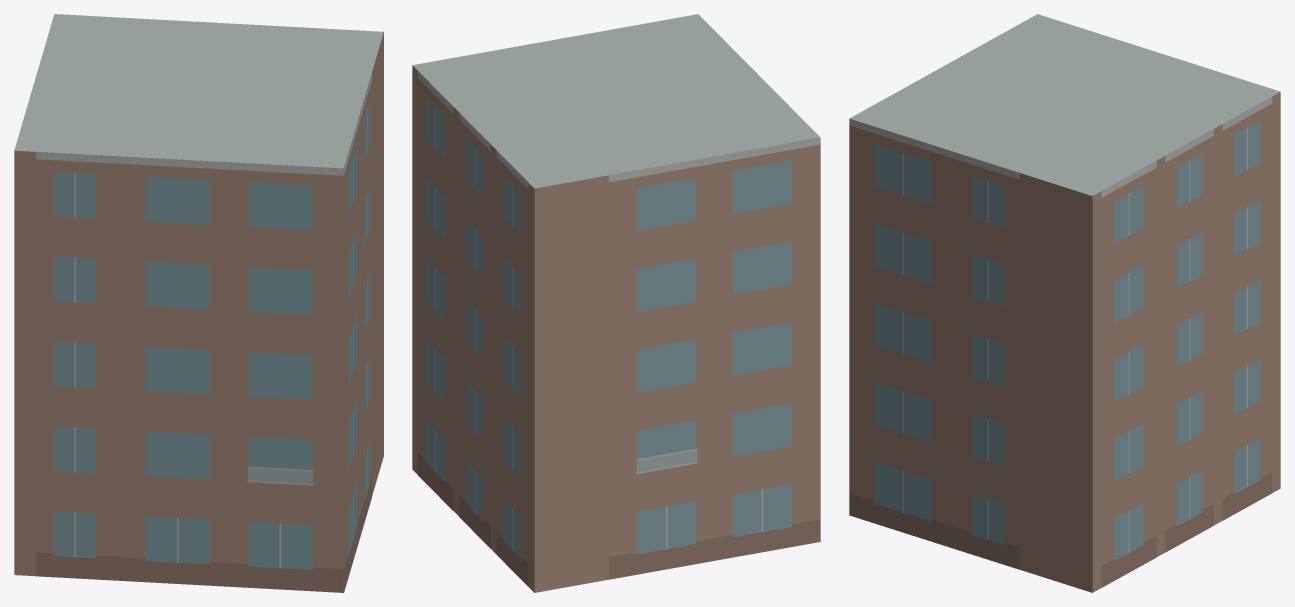
The model's file is survey-upis-32669905.glb.
3 views of the same model, side by side, from view 1: azimuth 30°, elevation 25°; view 2: azimuth 150°, elevation 25°; view 3: azimuth 270°, elevation 25° (orthographic). The views are drawn at different scales.
Parts seen in each view (by area): view 1: survey-upis-32669905.tmp; view 2: survey-upis-32669905.tmp; view 3: survey-upis-32669905.tmp.
Part boxes in pixels (bbox=[...]): survey-upis-32669905.tmp: bbox=[14, 14, 383, 592]; survey-upis-32669905.tmp: bbox=[412, 14, 820, 592]; survey-upis-32669905.tmp: bbox=[849, 14, 1280, 592].
Bounding box in the file's own units: 13.68 × 13.9 × 13.7.
